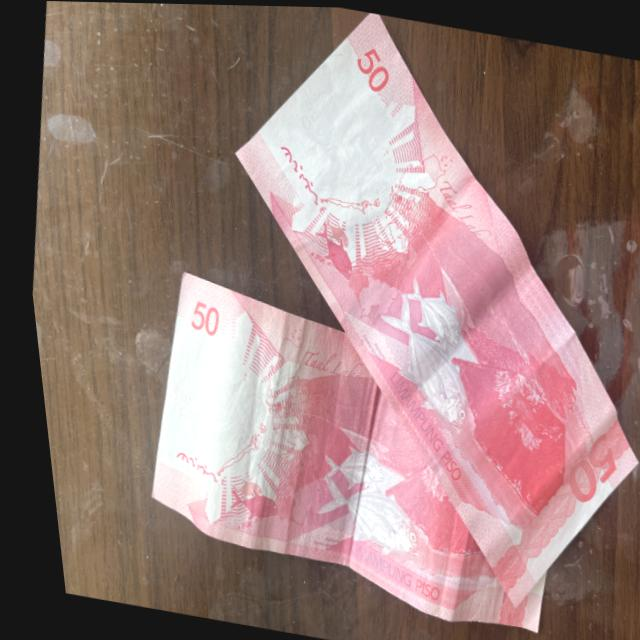50_maliputo: (345, 269, 489, 436), (286, 433, 423, 566)
50_maliputo_watermark: (205, 467, 274, 534), (301, 211, 360, 278)
value_watermark: (284, 91, 327, 137)
watermark: (260, 62, 419, 249)
